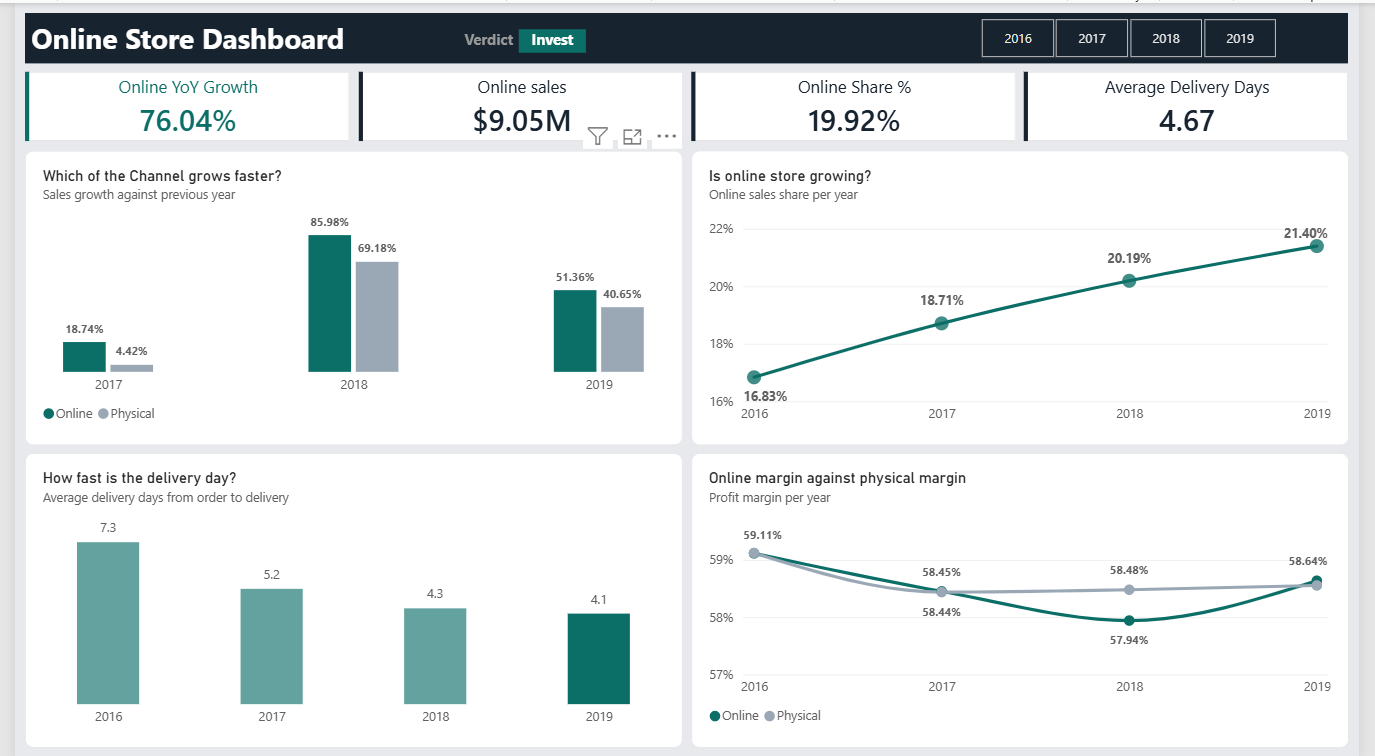

The page's visual inventory and layout, read from the dashboard file:
{"tool":"powerbi","page":{"name":"Online","canvas":[1280,720],"ordinal":3},"visuals":[{"type":"group","id":"g1","title":"Background","box":[10,10,1260,700],"z":0},{"type":"shape","box":[10,10,1260,48],"z":0,"group":"g1"},{"type":"textbox","box":[15,15,500,40],"z":1000},{"type":"shape","box":[10,66,309,66],"z":1000,"group":"g1"},{"type":"cardVisual","fields":{"Data":["_Measure.Online Growth"]},"box":[10,66,309,66],"z":2000},{"type":"shape","box":[327,66,309,66],"z":2000,"group":"g1"},{"type":"cardVisual","fields":{"Data":["_Measure.Online sales"]},"box":[327,66,309,66],"z":3000},{"type":"shape","box":[644,66,309,66],"z":3000,"group":"g1"},{"type":"cardVisual","fields":{"Data":["_Measure.Online Share %"]},"box":[644,66,309,66],"z":4000},{"type":"shape","box":[961,66,309,66],"z":4000,"group":"g1"},{"type":"cardVisual","fields":{"Data":["_Measure.Average Delivery Days"]},"box":[961,66,309,66],"z":5000},{"type":"textbox","box":[420,25,62,30],"z":7000},{"type":"textbox","box":[480,25,64,22],"z":8000},{"type":"clusteredColumnChart","title":"Which of the Channel grows faster?","fields":{"Category":["Date.Year"],"Series":["Sales_Clean.Channel"],"Y":["_Measure.Sales YoY%"]},"box":[10,140,626,281],"z":9000},{"type":"lineChart","title":"Is online store growing?","fields":{"Category":["Date.Year"],"Y":["_Measure.Online Share %"]},"box":[644,140,626,281],"z":10000},{"type":"clusteredColumnChart","title":"How fast is the delivery day?","fields":{"Category":["Date.Year"],"Y":["_Measure.Average Delivery Days"]},"box":[10,429,626,281],"z":11000},{"type":"lineChart","title":"Online margin against physical margin","fields":{"Category":["Date.Year"],"Series":["Sales_Clean.Channel"],"Y":["_Measure.Profit Margin"]},"box":[644,429,626,281],"z":12000},{"type":"slicer","fields":{"Values":["Date.Year"]},"box":[900,13,320,40],"z":13000}]}

Visuals, with their boxes in screenshot pixels (x1, y1, x2, y2), scaled from the page's 1280x720 canvas onto the 1375x756 screenshot:
"Background" group: 11 10 1364 746
shape: 11 10 1364 61
textbox: 16 16 553 58
shape: 11 69 343 139
cardVisual - _Measure.Online Growth: 11 69 343 139
shape: 351 69 683 139
cardVisual - _Measure.Online sales: 351 69 683 139
shape: 692 69 1024 139
cardVisual - _Measure.Online Share %: 692 69 1024 139
shape: 1032 69 1364 139
cardVisual - _Measure.Average Delivery Days: 1032 69 1364 139
textbox: 451 26 518 58
textbox: 516 26 584 49
"Which of the Channel grows faster?" clusteredColumnChart: 11 147 683 442
"Is online store growing?" lineChart: 692 147 1364 442
"How fast is the delivery day?" clusteredColumnChart: 11 450 683 746
"Online margin against physical margin" lineChart: 692 450 1364 746
slicer - Date.Year: 967 14 1311 56
